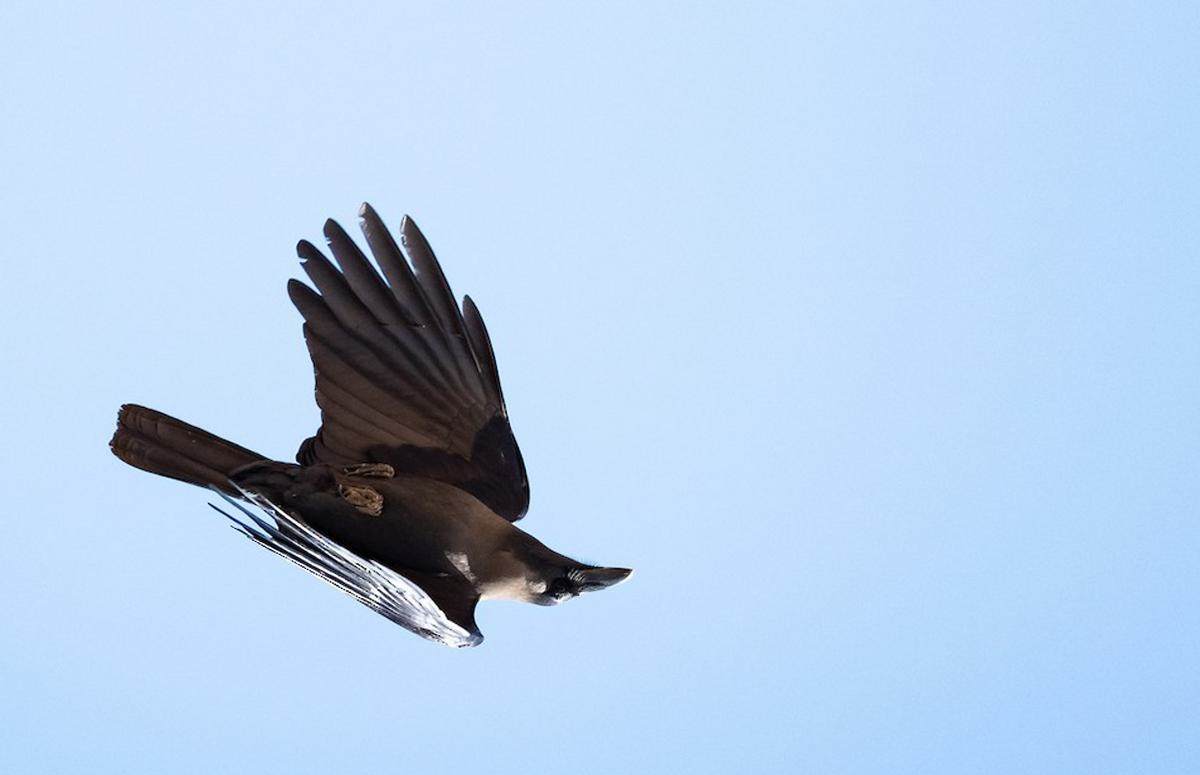crow: (129, 194, 633, 710)
